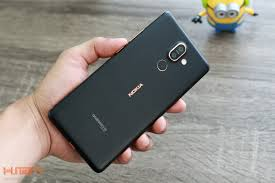nokia: (45, 8, 210, 173)
